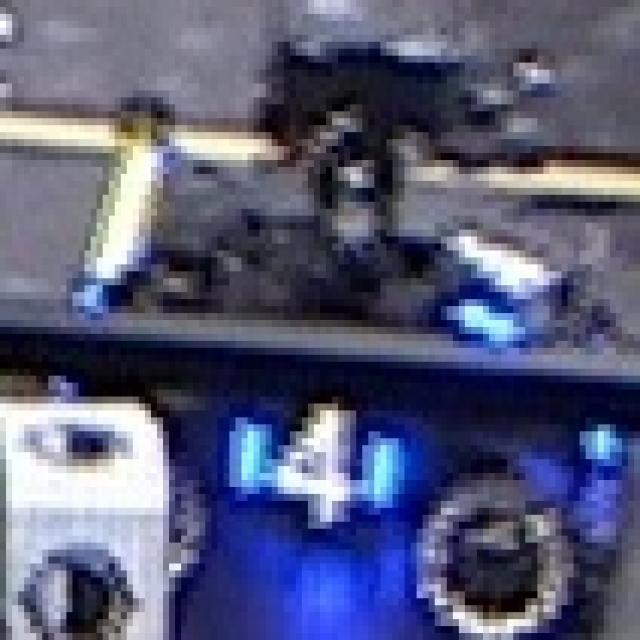B4: (224, 396, 410, 536)
